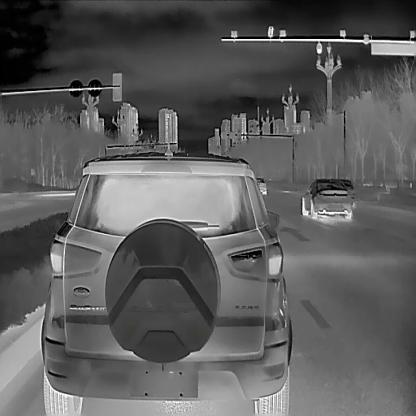car: (39, 151, 291, 414), (300, 177, 351, 221), (336, 180, 354, 201), (254, 176, 267, 195)
